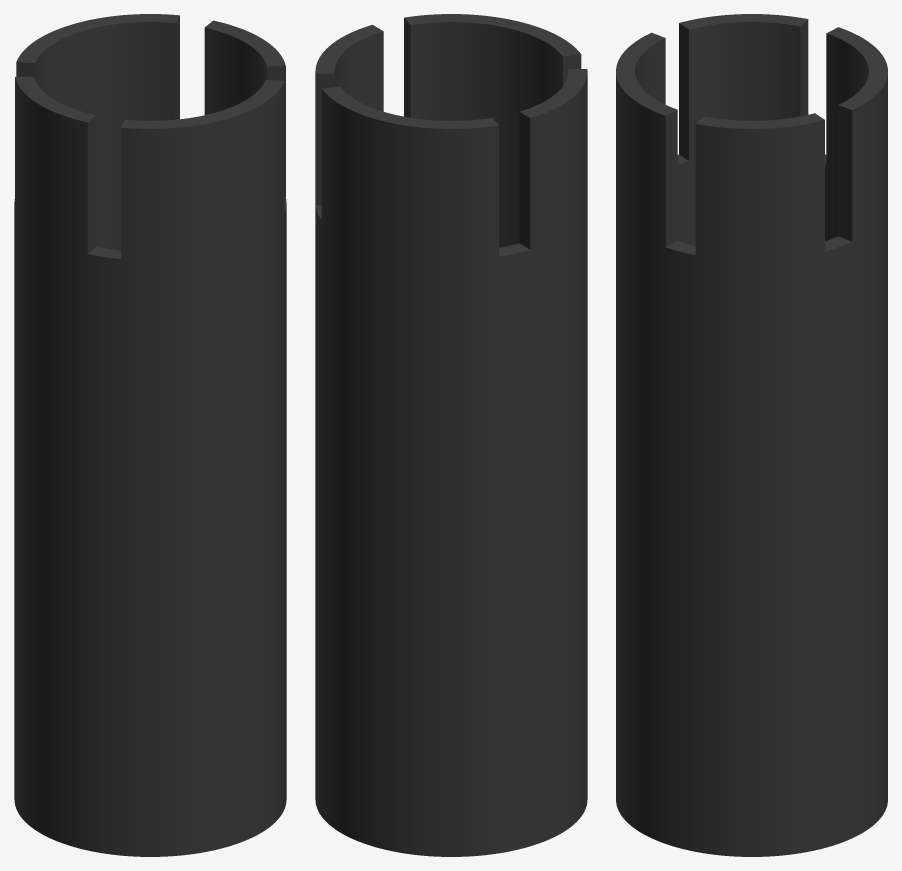
Rendered from rook-black-hd.glb.
3 renders of one model, left to right at view 1: azimuth 30°, elevation 25°; view 2: azimuth 150°, elevation 25°; view 3: azimuth 270°, elevation 25°, orthographic.
Visible parts, largest first — view 1: 06_vez_cerna; view 2: 06_vez_cerna; view 3: 06_vez_cerna.
Part boxes in pixels (<box>): 06_vez_cerna: <box>14,14,286,856</box>; 06_vez_cerna: <box>315,14,587,856</box>; 06_vez_cerna: <box>616,14,887,856</box>.
Size of the model in its own units: 0.4706 by 1.39 by 0.4706.
1 material, 1 textured.
